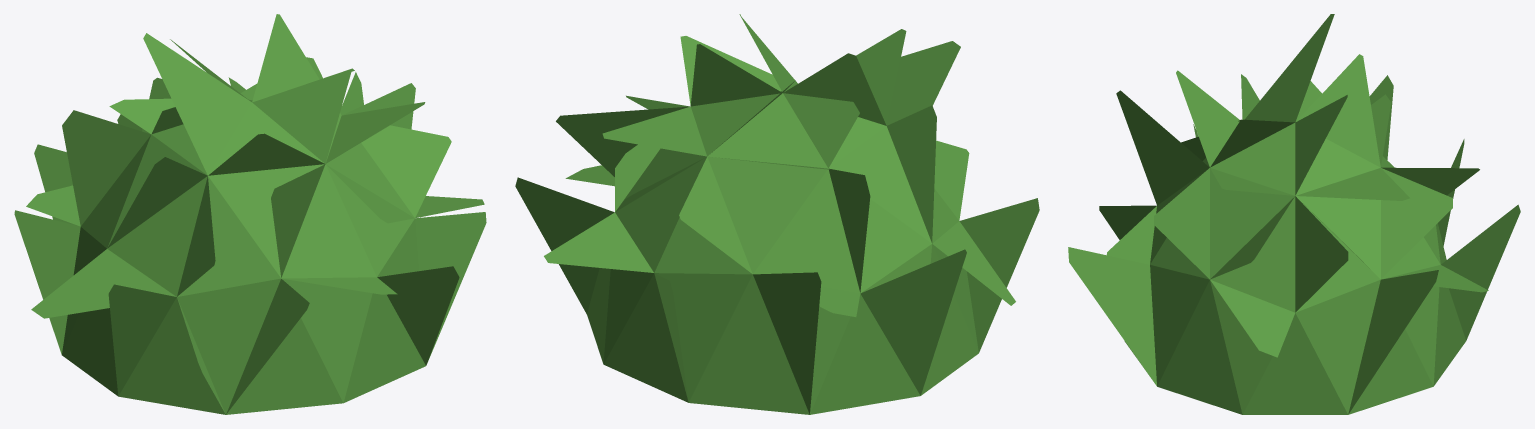
The model's file is plants-type-003.obj.
3 views of the same model, side by side, from view 1: azimuth 30°, elevation 25°; view 2: azimuth 150°, elevation 25°; view 3: azimuth 270°, elevation 25° (orthographic). The views are drawn at different scales.
Visible parts, largest first — view 1: plants-type-003; view 2: plants-type-003; view 3: plants-type-003.
Part boxes in pixels (x1,y1,x2,y2): plants-type-003: (14,14,486,414); plants-type-003: (515,14,1039,414); plants-type-003: (1068,14,1520,414).
Bounding box in the file's own units: 0.3878 × 0.2587 × 0.3678.
